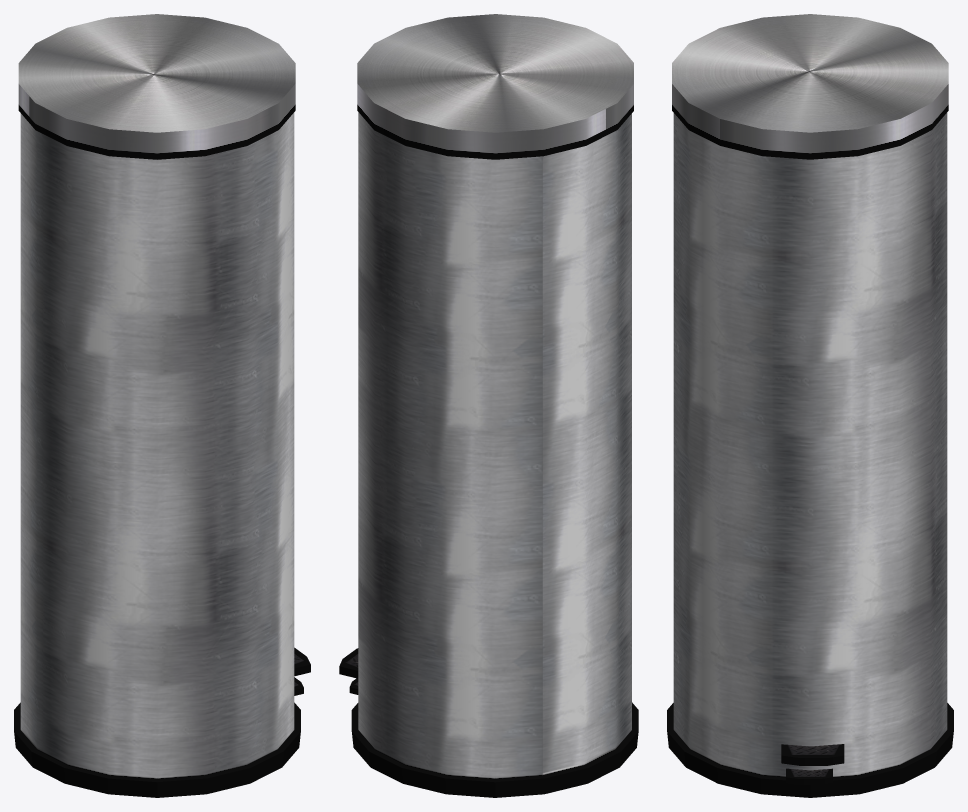
Rendered from RubbishBin.FBX.
3 views of the same model, side by side, from view 1: azimuth 30°, elevation 25°; view 2: azimuth 150°, elevation 25°; view 3: azimuth 270°, elevation 25° (orthographic).
Parts seen in each view (by area): view 1: Cylinder001; view 2: Cylinder001; view 3: Cylinder001.
Boxes of the visible parts, box(x1,y1,x2,y2) form: Cylinder001: box(14, 14, 310, 797); Cylinder001: box(339, 14, 638, 797); Cylinder001: box(667, 14, 953, 797).
Size of the model in its own units: 229 by 537 by 210.
1 material, 1 textured.
